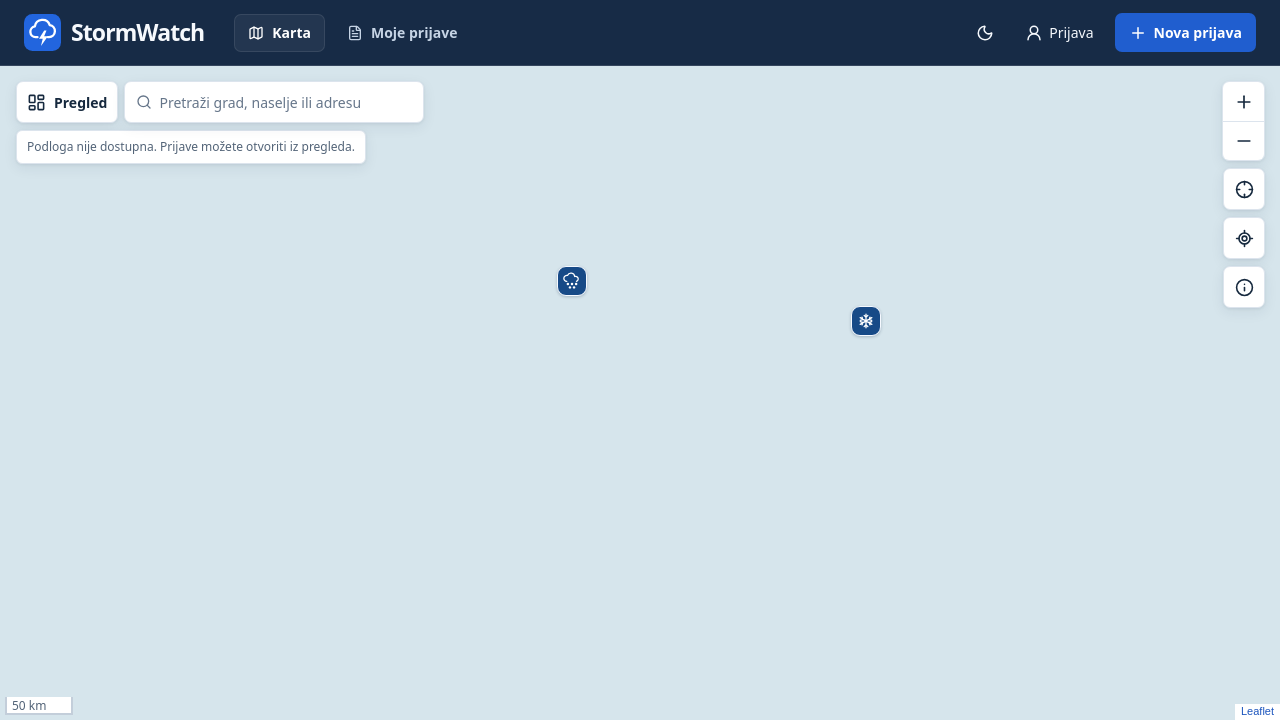
karta, pojedinačni markeri i paneli › bočni pregled se otvara gumbom „Pregled” i skriva gumbom „Sakrij pregled”
This screenshot has width=1280, height=720.
Click the button "Pregled": {"x": 67, "y": 102} [16,81,118,123]
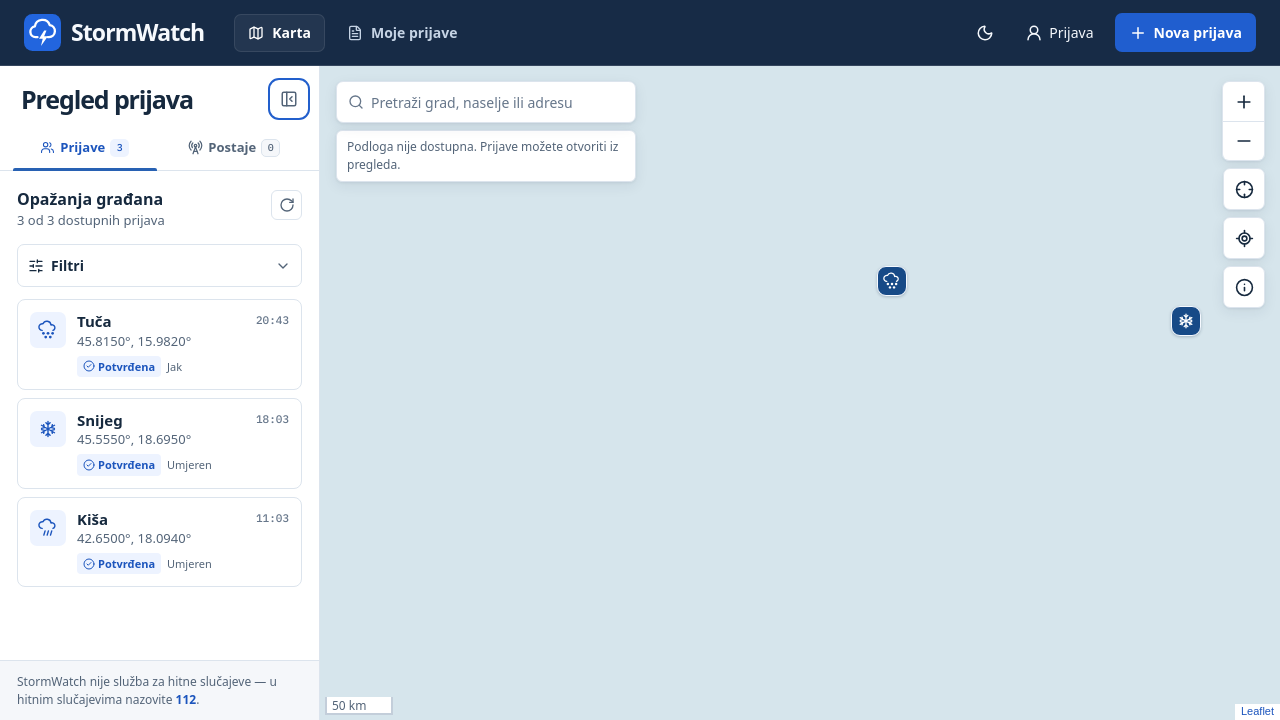
Check: the element with class "workspace" does not have class "workspace-collapsed"
Click the button named "Sakrij pregled": {"x": 289, "y": 99} [273,83,305,115]
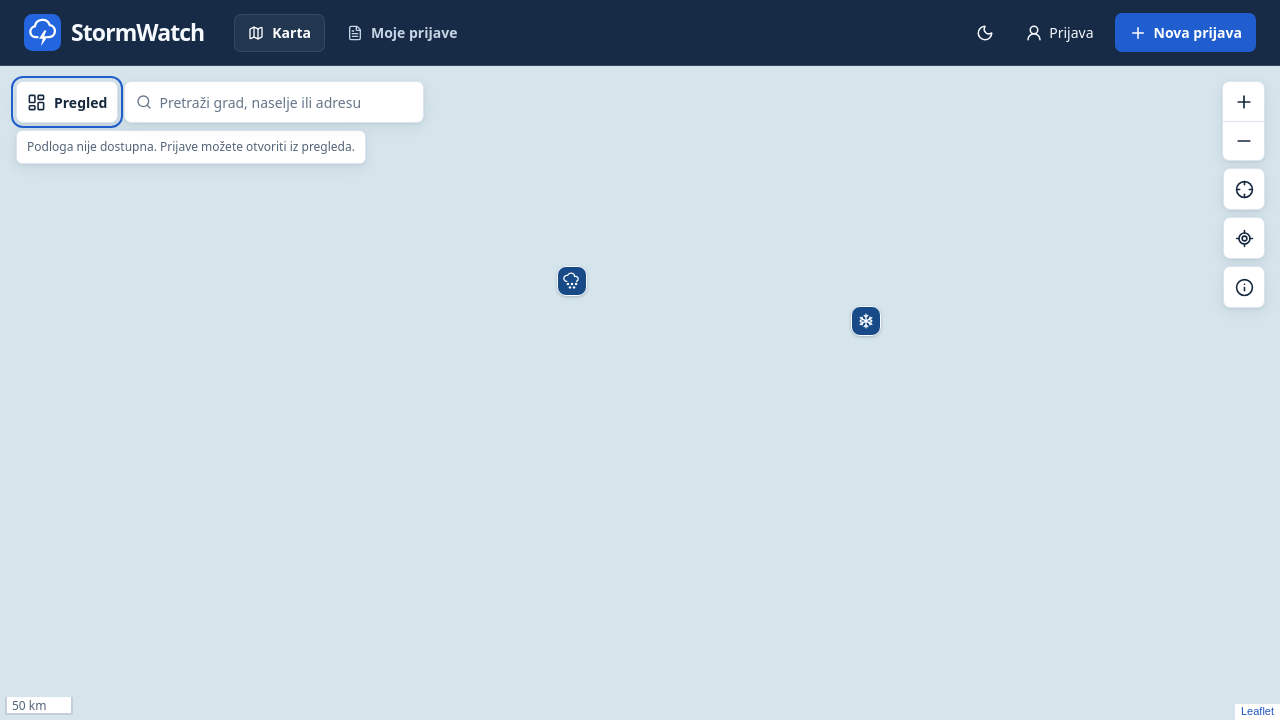
Check: the element with class "workspace" has class "workspace-collapsed"
